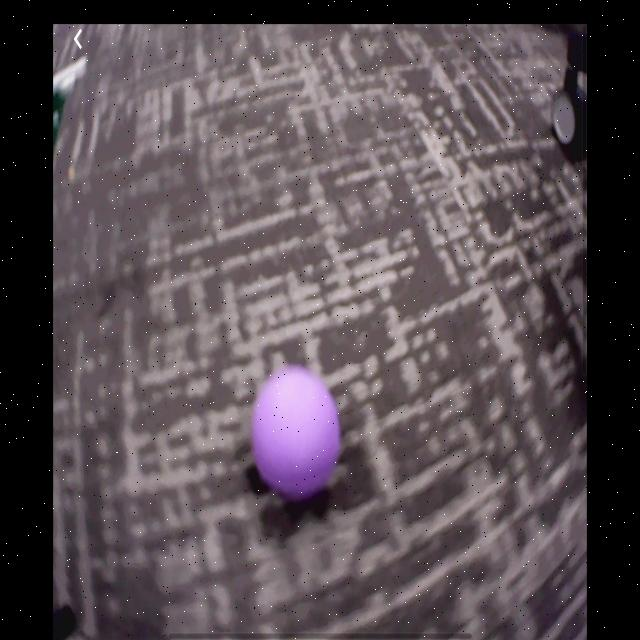ball: (253, 369, 342, 500)
